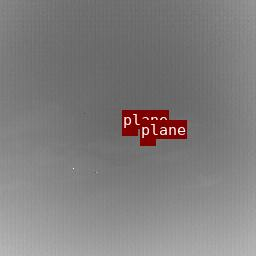plane: (122, 129, 137, 135), (140, 139, 155, 145)
